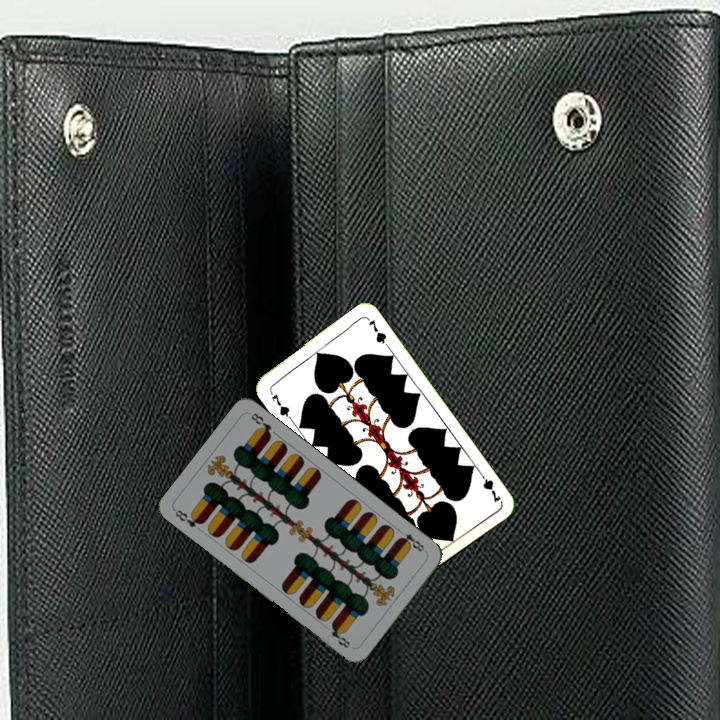E8: (394, 525, 429, 555), (171, 505, 206, 530)
G7: (265, 386, 294, 422), (476, 468, 503, 505)
